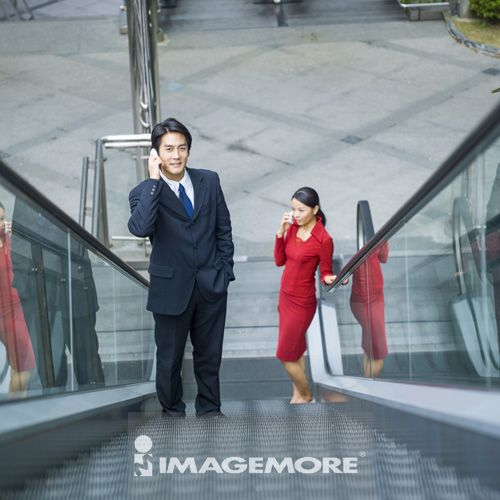talk: (148, 141, 189, 183), (277, 204, 312, 240)
